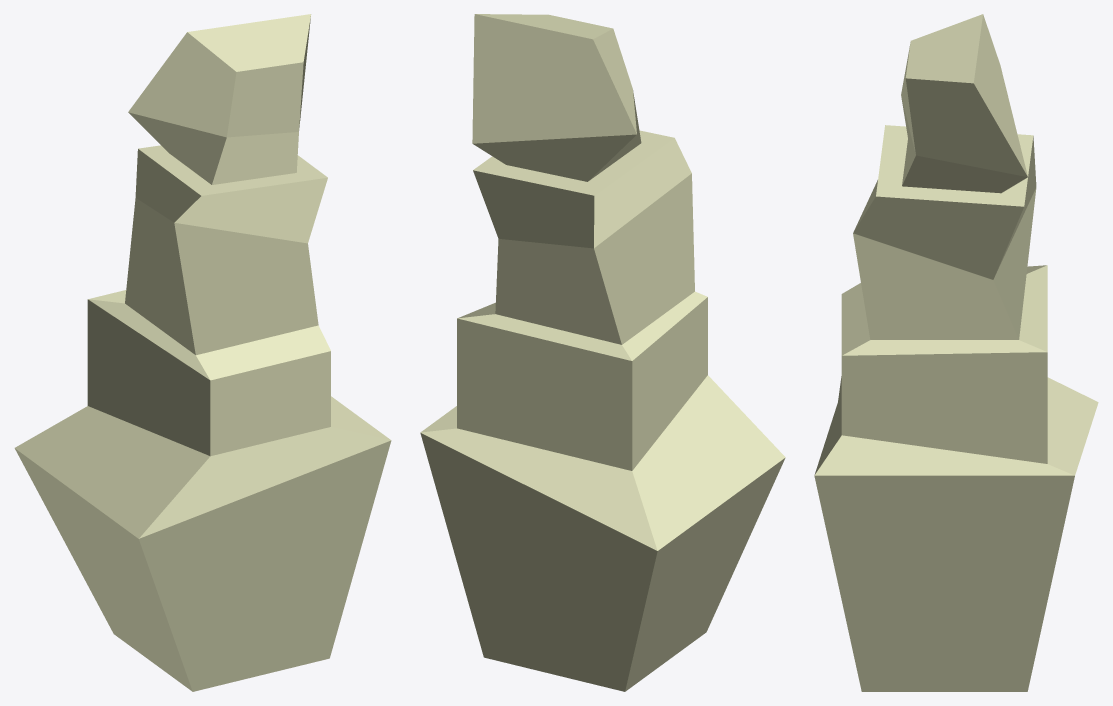
File: block statue.fbx
3 views of the same model, side by side, from view 1: azimuth 30°, elevation 25°; view 2: azimuth 150°, elevation 25°; view 3: azimuth 270°, elevation 25° (orthographic). The views are drawn at different scales.
Parts seen in each view (by area): view 1: Cube; view 2: Cube; view 3: Cube.
Boxes of the visible parts, x1=… form: Cube: x1=14, y1=14, x2=391, y2=691; Cube: x1=420, y1=14, x2=785, y2=691; Cube: x1=814, y1=14, x2=1098, y2=691.
Size of the model in its own units: 224 by 537 by 218.
